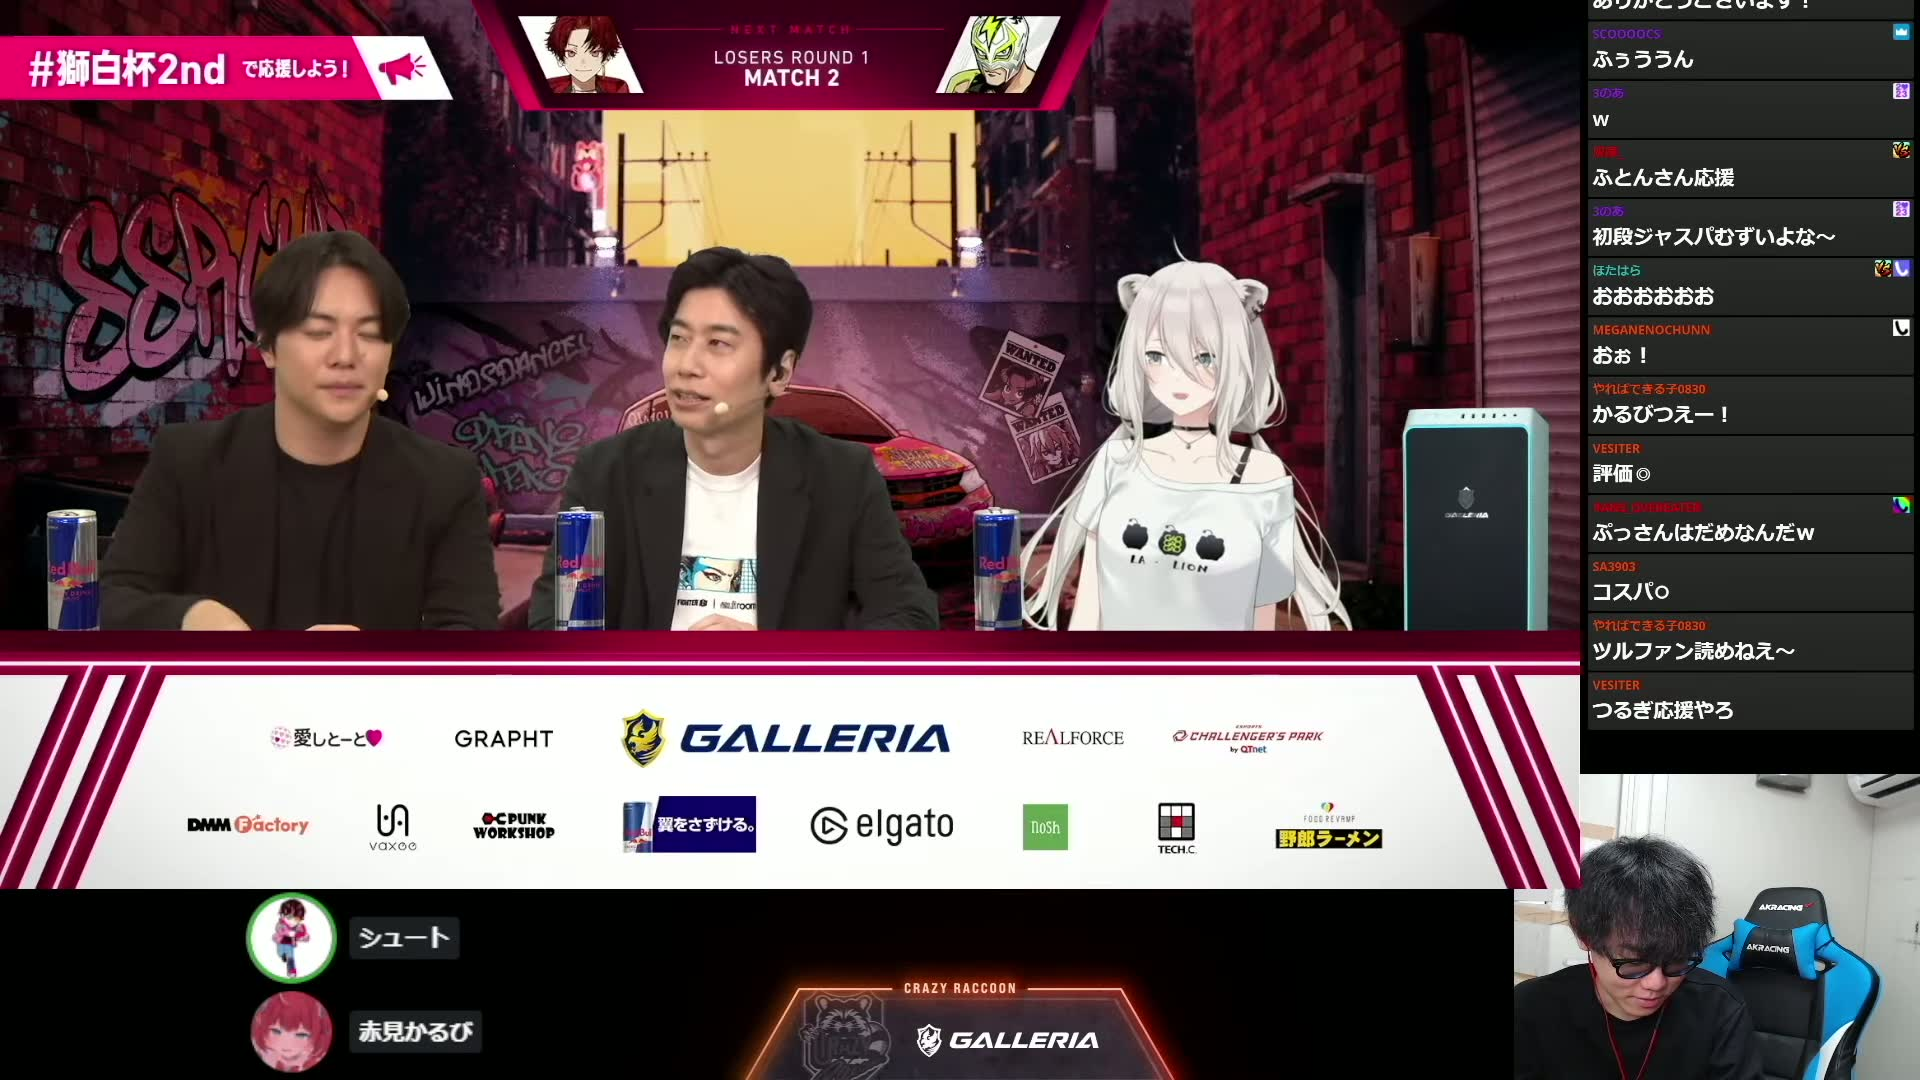stream_tag: (1514, 773, 1916, 1080)
